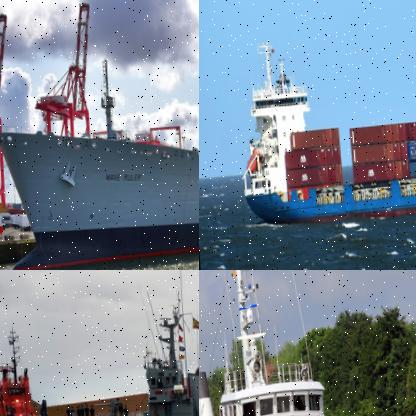Merchant Ship: (234, 23, 415, 230)
Military Ship: (0, 35, 198, 269), (14, 270, 198, 415), (0, 324, 51, 415)
Patrol Boat: (199, 270, 403, 415)
